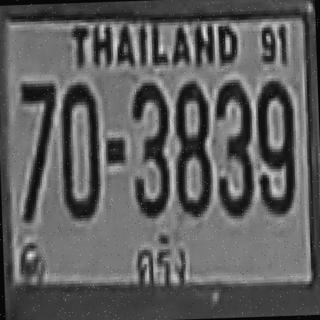N00: (58, 80, 99, 217)
N03: (129, 79, 170, 216), (214, 78, 252, 215)
N07: (19, 80, 58, 214), (19, 79, 58, 196), (19, 79, 56, 173), (19, 80, 56, 163)
N08: (172, 79, 209, 213)
N09: (254, 78, 294, 212)
P70: (124, 225, 196, 295)
